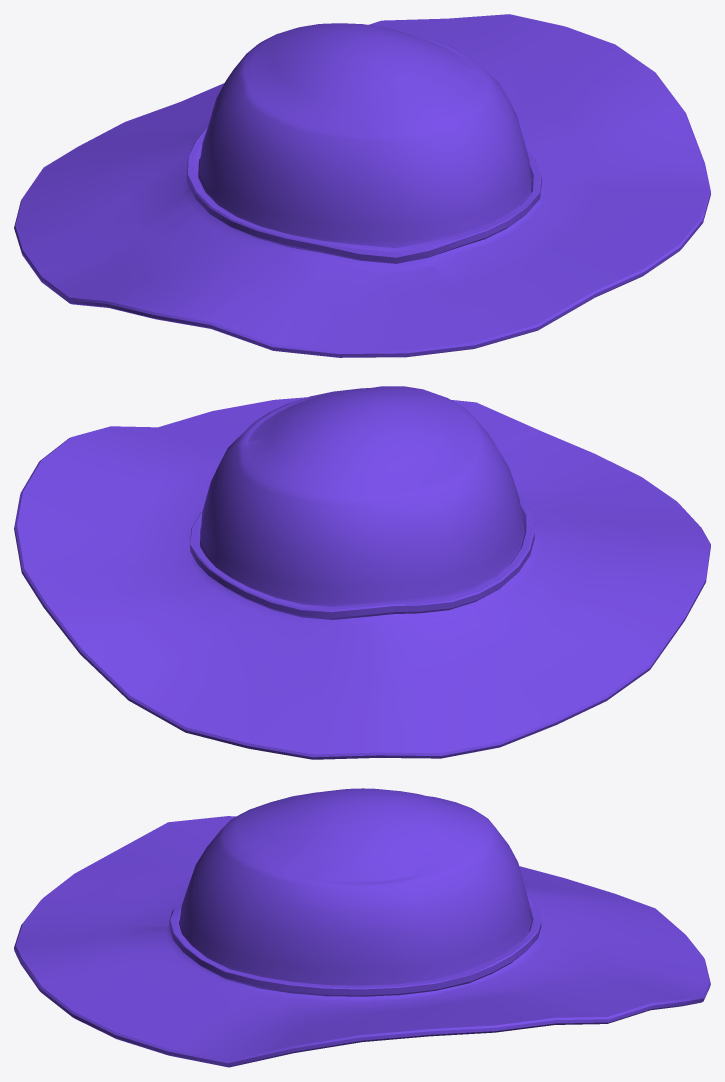
Rendered from Sombrero.fbx.
3 views of the same model, one above another, from view 1: azimuth 30°, elevation 25°; view 2: azimuth 150°, elevation 25°; view 3: azimuth 270°, elevation 25° (orthographic). The views are drawn at different scales.
Parts seen in each view (by area): view 1: Sphere, Sphere.001; view 2: Sphere, Sphere.001; view 3: Sphere, Sphere.001.
Part boxes in pixels (x1,y1,x2,y2): Sphere: (14,14,710,357); Sphere.001: (186,128,541,263); Sphere: (14,386,710,759); Sphere.001: (190,495,534,619); Sphere: (14,788,710,1067); Sphere.001: (169,894,541,996).
Bounding box in the file's own units: 44.8 × 14.84 × 47.31.
